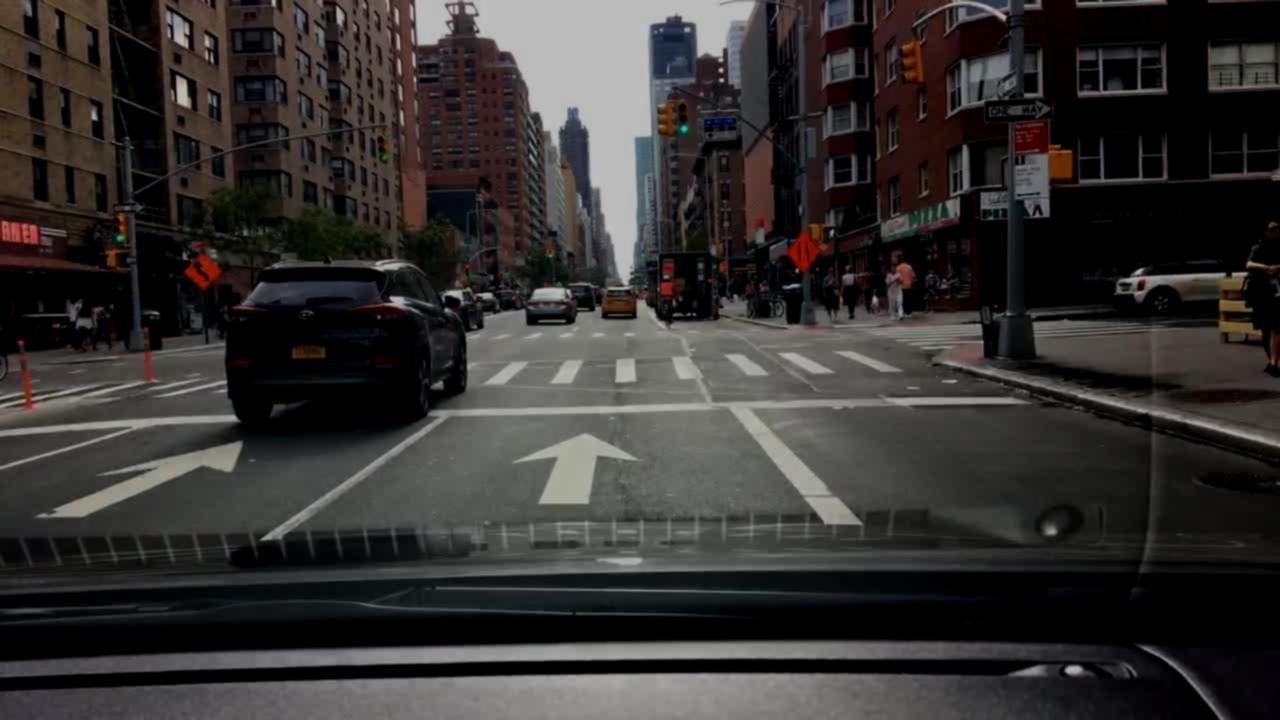Hyundai: (294, 307, 319, 323)
